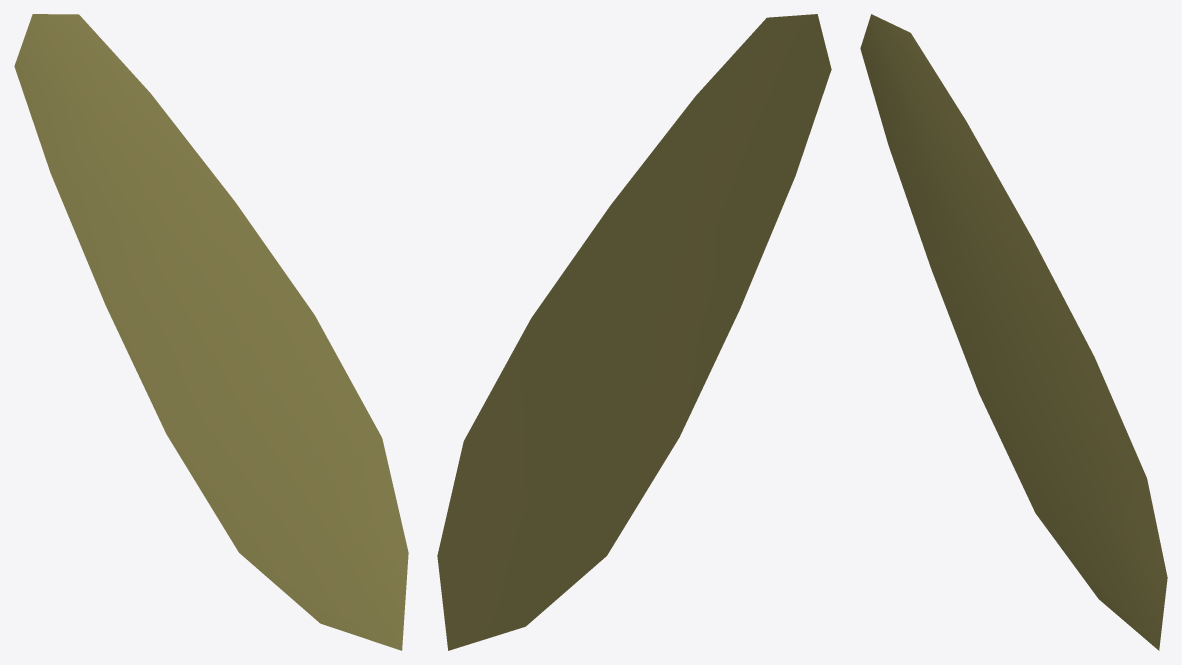
File: lovebird_feather_flight_primary_011.obj
3 renders of one model, left to right at view 1: azimuth 30°, elevation 25°; view 2: azimuth 150°, elevation 25°; view 3: azimuth 330°, elevation 25°, orthographic. The views are drawn at different scales.
Visible parts, largest first — view 1: feather_flight_primary_011; view 2: feather_flight_primary_011; view 3: feather_flight_primary_011.
Part boxes in pixels (bbox=[...]): feather_flight_primary_011: bbox=[14, 14, 408, 650]; feather_flight_primary_011: bbox=[437, 14, 831, 650]; feather_flight_primary_011: bbox=[860, 14, 1167, 650].
Bounding box in the file's own units: 0.0168 × 0.0297 × 0.00016.
